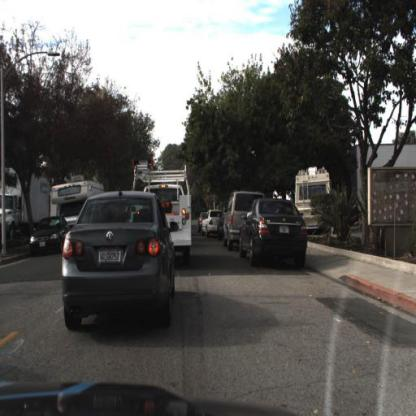car: (67, 192, 176, 330), (237, 198, 309, 271), (165, 163, 198, 271), (223, 189, 267, 253), (49, 171, 98, 221), (28, 212, 72, 259), (201, 208, 224, 241), (216, 200, 228, 246)
truck: (142, 181, 196, 261), (1, 166, 52, 241), (1, 167, 50, 244), (292, 164, 337, 243), (51, 176, 105, 241)
